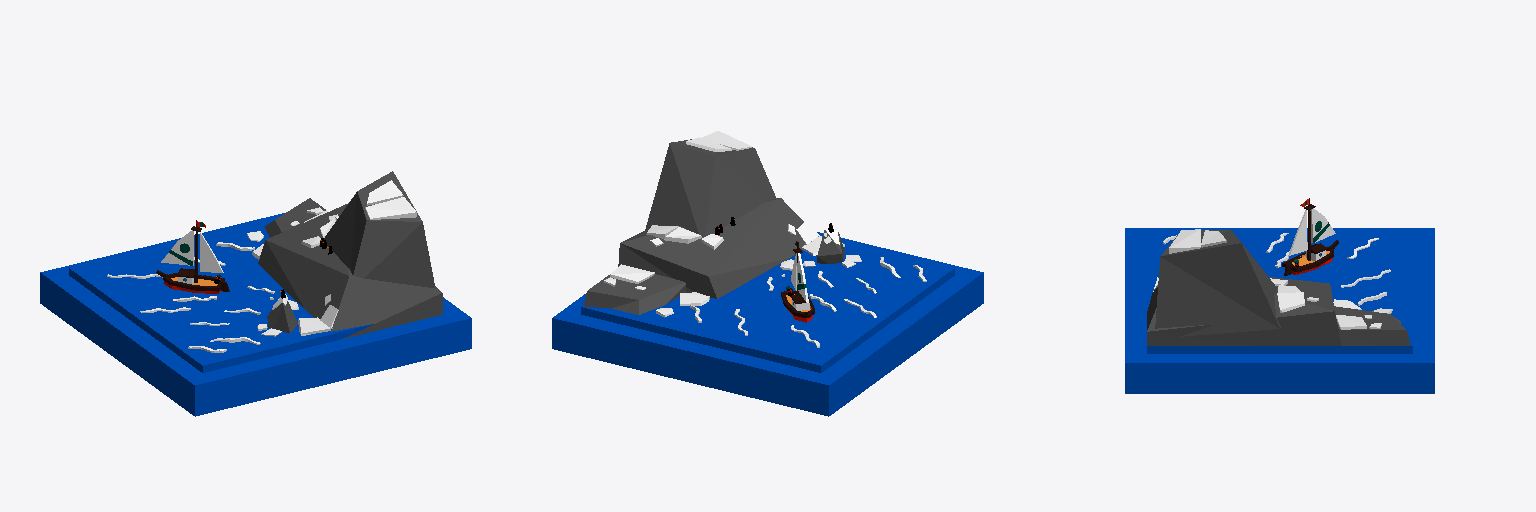
The picture shows the model from 3 angles: view 1: azimuth 30°, elevation 25°; view 2: azimuth 150°, elevation 25°; view 3: azimuth 270°, elevation 25°; orthographic projection.
Visible parts, largest first — view 1: group[number redacted], group[number redacted], group[number redacted], group[number redacted], group[number redacted], group[number redacted], group[number redacted], group[number redacted], group[number redacted], group[number redacted], group[number redacted]; view 2: group[number redacted], group[number redacted], group[number redacted], group[number redacted], group[number redacted], group[number redacted], group[number redacted], group[number redacted], group[number redacted], group[number redacted]; view 3: group[number redacted], group[number redacted], group[number redacted], group[number redacted], group[number redacted], group[number redacted], group[number redacted], group[number redacted].
Part boxes in pixels (left/top/right/bottom): group[number redacted]: left=69, top=217, right=438, bottom=372; group[number redacted]: left=184, top=315, right=452, bottom=416; group[number redacted]: left=258, top=203, right=442, bottom=338; group[number redacted]: left=40, top=268, right=201, bottom=407; group[number redacted]: left=324, top=171, right=435, bottom=288; group[number redacted]: left=443, top=297, right=471, bottom=353; group[number redacted]: left=265, top=198, right=325, bottom=237; group[number redacted]: left=365, top=197, right=416, bottom=219; group[number redacted]: left=267, top=301, right=297, bottom=332; group[number redacted]: left=161, top=230, right=193, bottom=265; group[number redacted]: left=59, top=213, right=284, bottom=274; group[number redacted]: left=581, top=236, right=954, bottom=372; group[number redacted]: left=571, top=315, right=820, bottom=411; group[number redacted]: left=618, top=198, right=805, bottom=298; group[number redacted]: left=645, top=139, right=776, bottom=236; group[number redacted]: left=811, top=276, right=972, bottom=416; group[number redacted]: left=584, top=274, right=685, bottom=314; group[number redacted]: left=552, top=294, right=585, bottom=353; group[number redacted]: left=817, top=232, right=983, bottom=310; group[number redacted]: left=817, top=230, right=844, bottom=263; group[number redacted]: left=610, top=264, right=654, bottom=283; group[number redacted]: left=1125, top=354, right=1434, bottom=393; group[number redacted]: left=1147, top=229, right=1412, bottom=353; group[number redacted]: left=1155, top=230, right=1280, bottom=336; group[number redacted]: left=1147, top=277, right=1340, bottom=345; group[number redacted]: left=1125, top=228, right=1146, bottom=353; group[number redacted]: left=1413, top=237, right=1434, bottom=353; group[number redacted]: left=1334, top=306, right=1410, bottom=345; group[number redacted]: left=1169, top=229, right=1200, bottom=253.
Bounding box in the file's own units: 2.64 × 1.28 × 2.55.